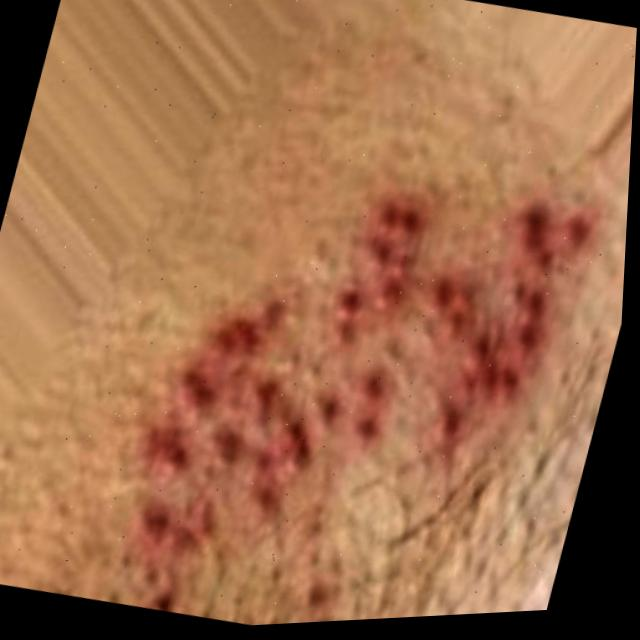Shingles: (128, 138, 596, 629)
